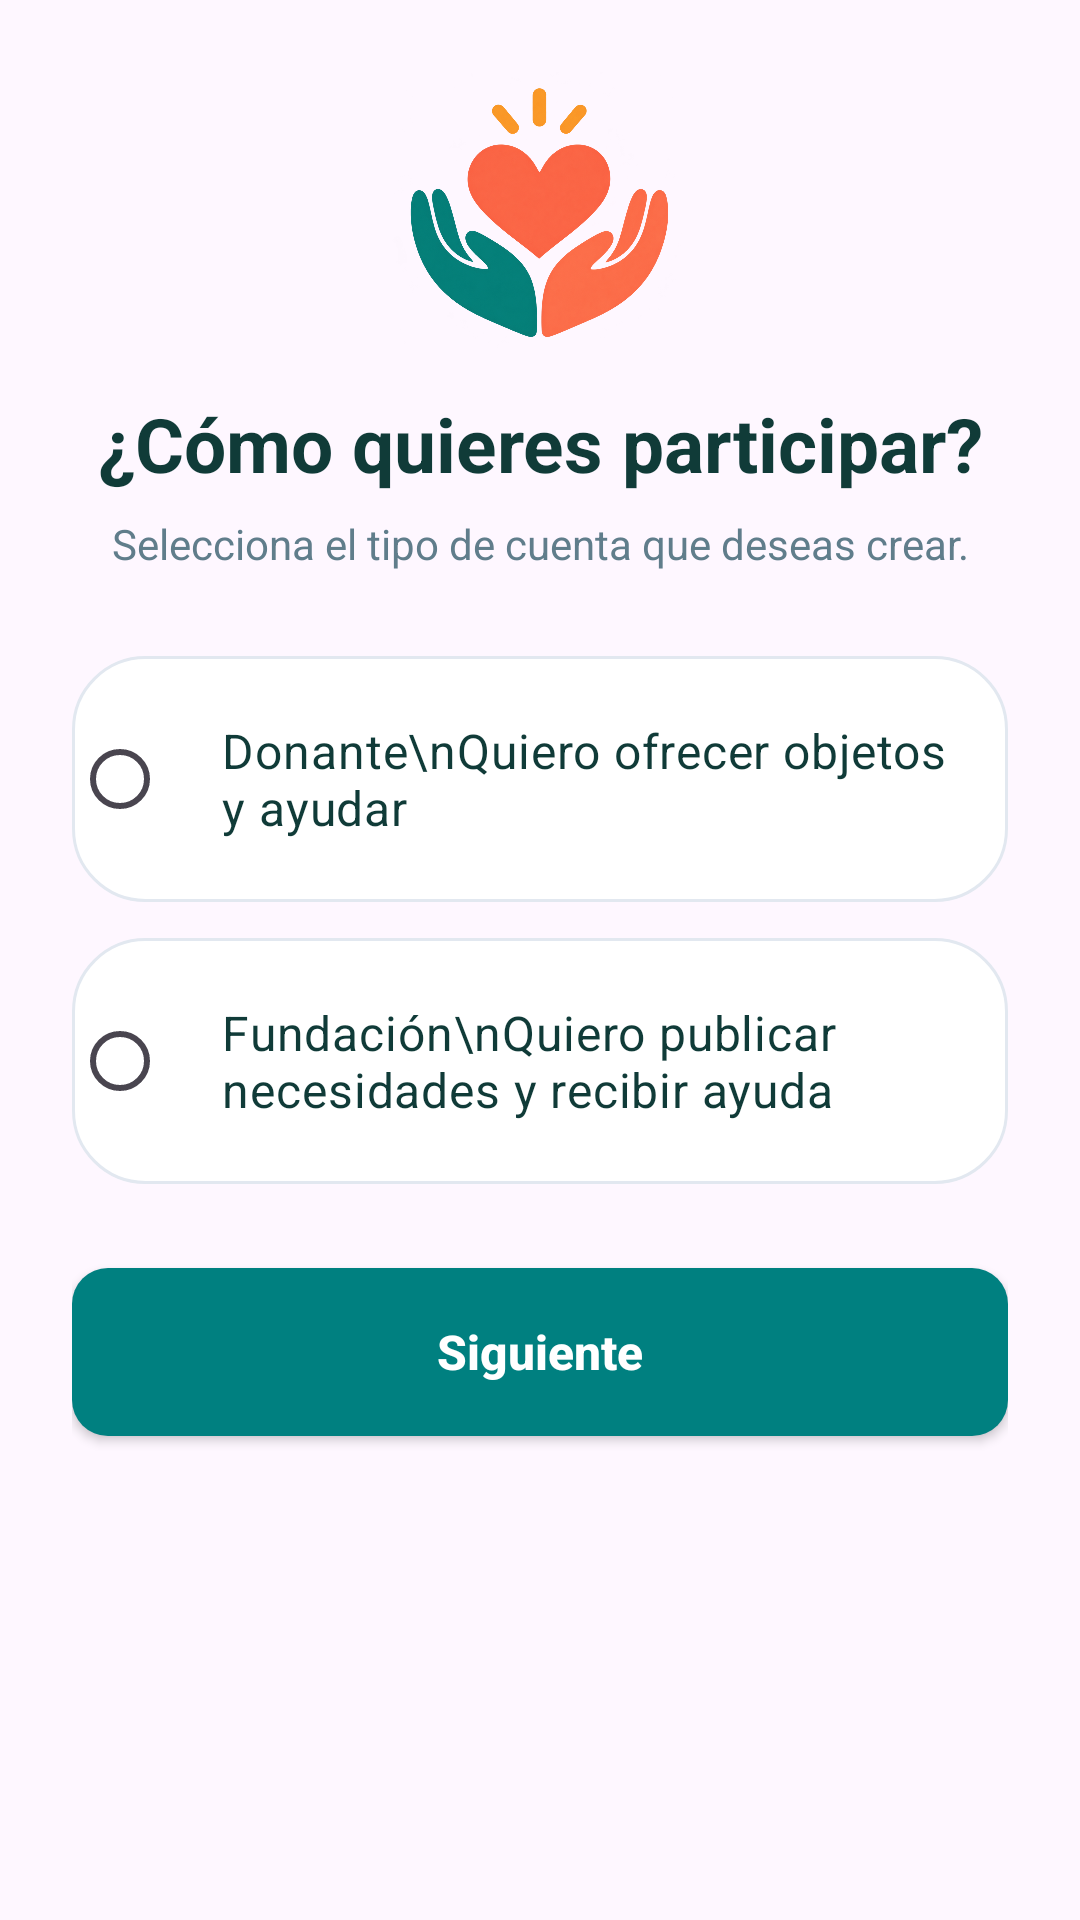

Named icons in this screenshot (1080 × 1920) and their bounding boxes, (x1, y1, x2, y2):
Manos Solidarias: (410, 88, 668, 337)
